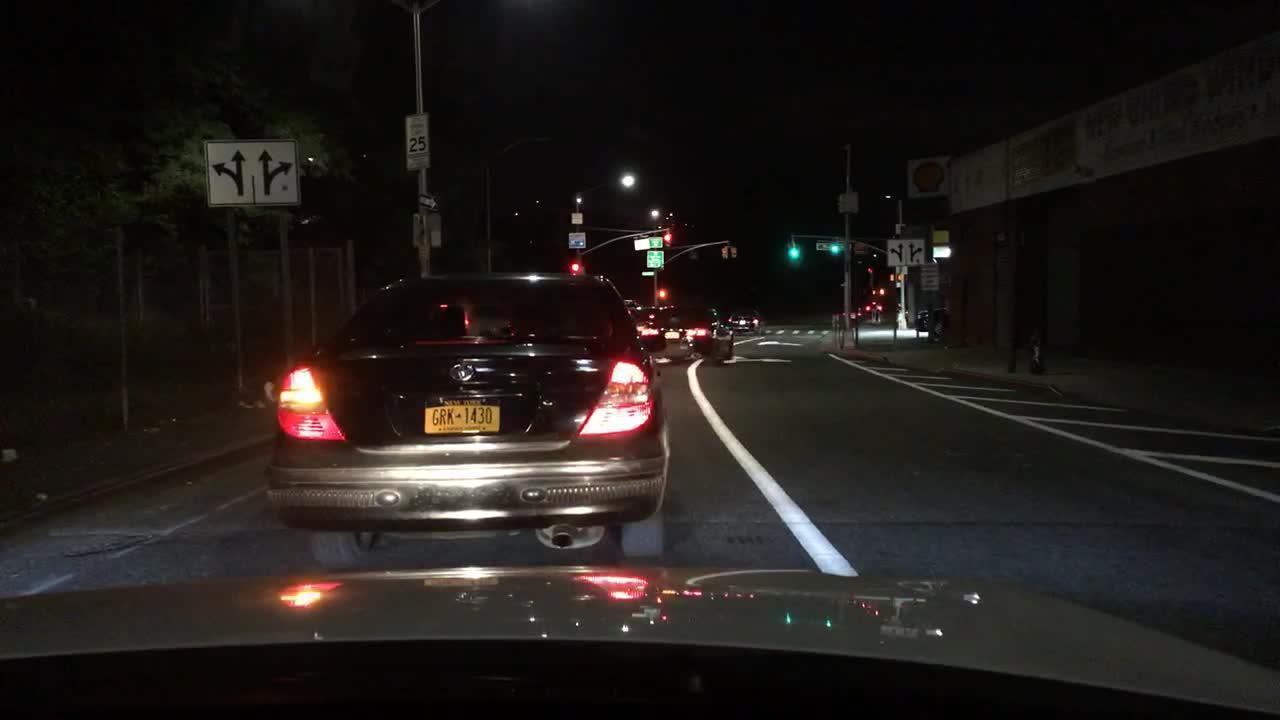Toyota: (447, 358, 477, 386)
